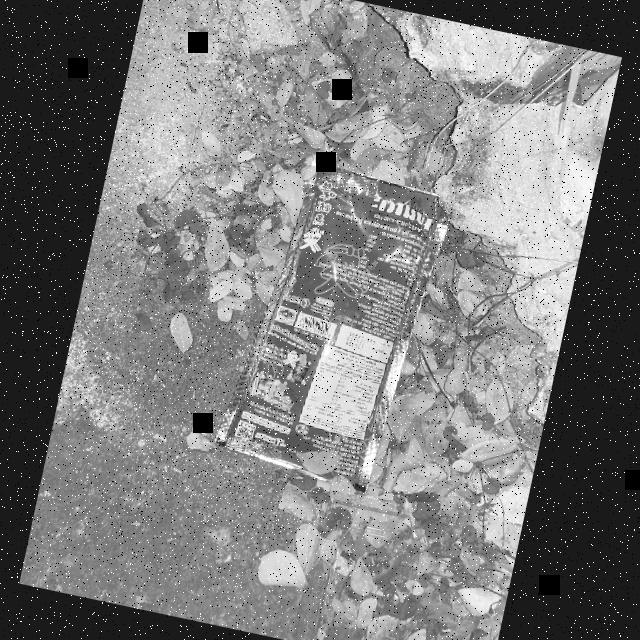snack_bag: (190, 155, 480, 510)
